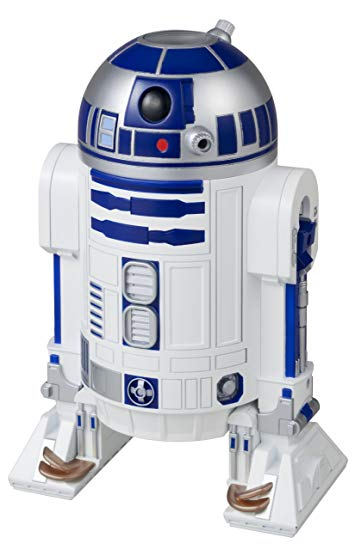r2d2: (29, 23, 344, 529)
